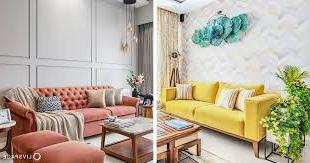chair: (32, 138, 107, 163), (10, 132, 67, 163)
clock: (0, 109, 15, 123)
light: (122, 1, 141, 52)
sofa: (160, 83, 278, 159), (9, 83, 141, 142)
table: (97, 118, 154, 163), (158, 113, 204, 163), (267, 124, 306, 163), (0, 122, 17, 154), (143, 106, 153, 122)
